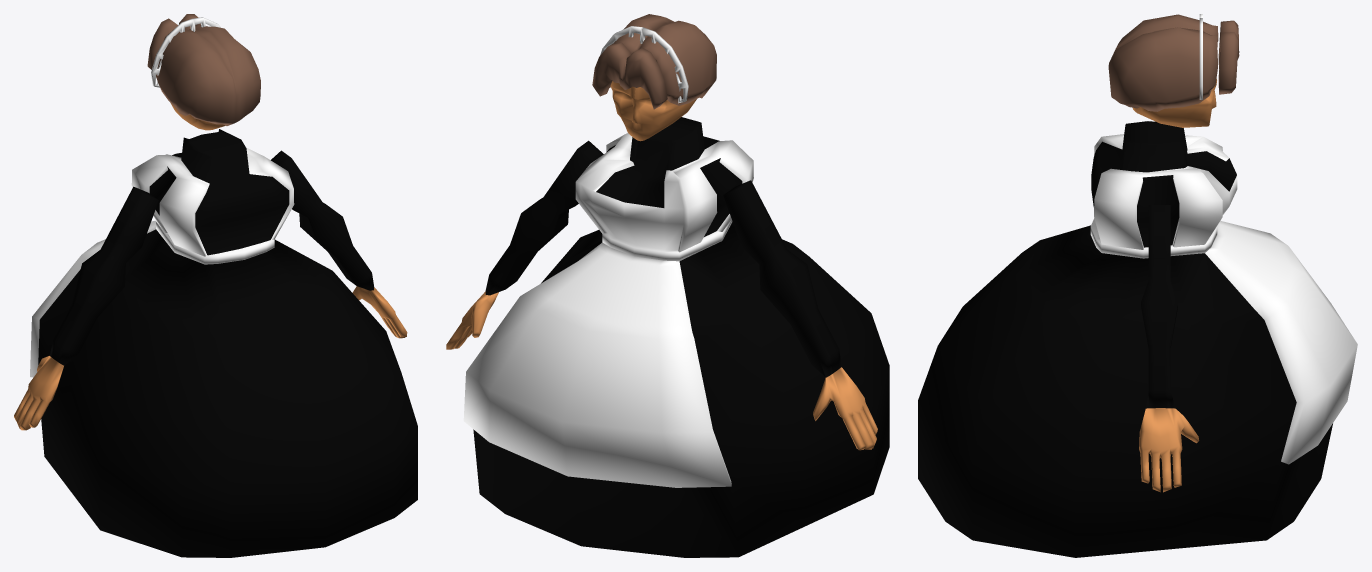
File: MAID BOT.glb
3 views of the same model, side by side, from view 1: azimuth 30°, elevation 25°; view 2: azimuth 150°, elevation 25°; view 3: azimuth 270°, elevation 25° (orthographic). The views are drawn at different scales.
Parts seen in each view (by area): view 1: Body.005; view 2: Body.005; view 3: Body.005.
Part boxes in pixels (left/top/right/bottom): Body.005: left=14, top=14, right=417, bottom=557; Body.005: left=446, top=14, right=889, bottom=557; Body.005: left=918, top=14, right=1357, bottom=557.
Size of the model in its own units: 1.51 by 1.61 by 1.39.
1 material, 1 textured.
